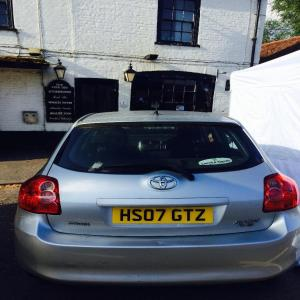Vehicle-registration-plate: (113, 208, 213, 224)
